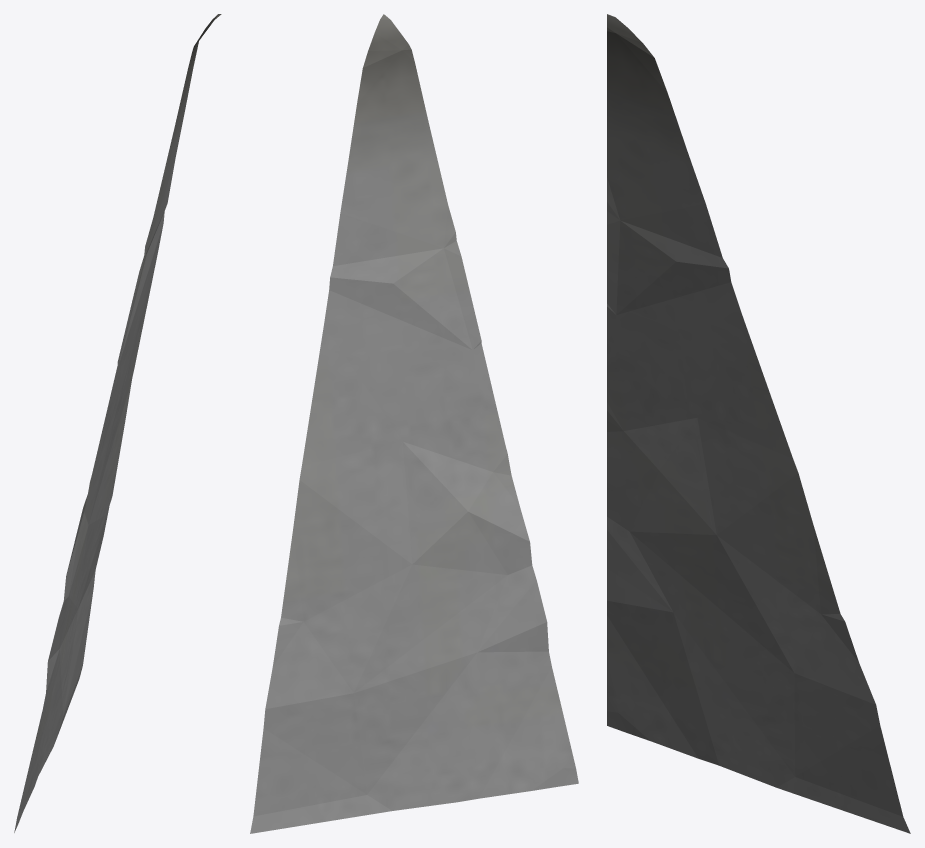
3 views of the same model, side by side, from view 1: azimuth 30°, elevation 25°; view 2: azimuth 150°, elevation 25°; view 3: azimuth 270°, elevation 25° (orthographic). The views are drawn at different scales.
Bounding box in the file's own units: 0.1447 × 0.5115 × 0.1717.
1 material, 1 textured.
